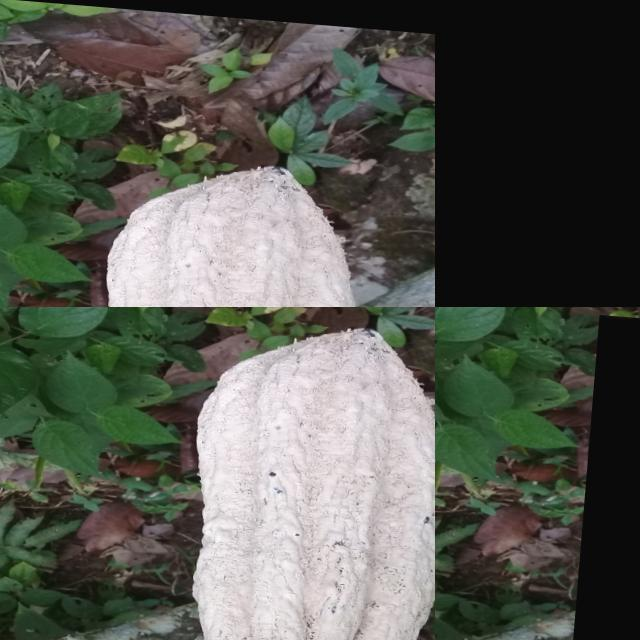Monilia: (577, 310, 640, 640)
Sana: (435, 0, 640, 307)
